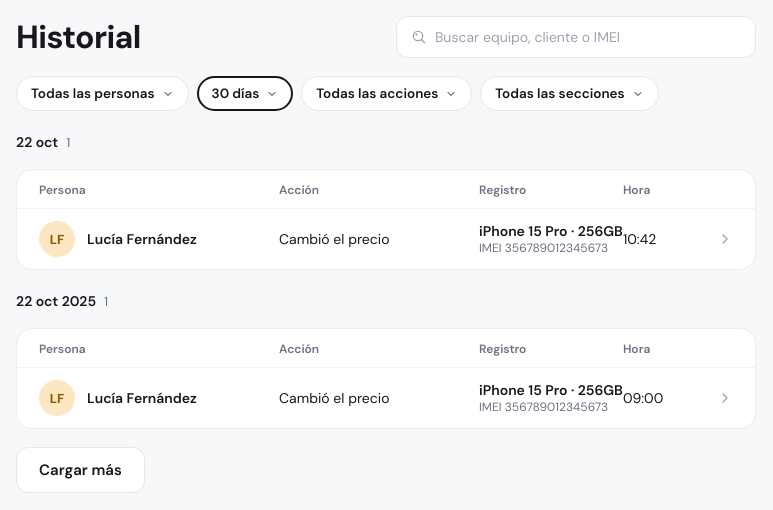
Test: Historial #372 › groups unsorted pages by complete day, counts shown rows and retains Cargar más
Expected: the element named "22 oct 2026" shows "22 oct", [16, 133, 58, 151]
Expected: the element named "22 oct 2025" shows "22 oct 2025", [16, 292, 96, 310]
Click the button "Cargar más". click: (80, 470)
box: [16, 447, 145, 493]
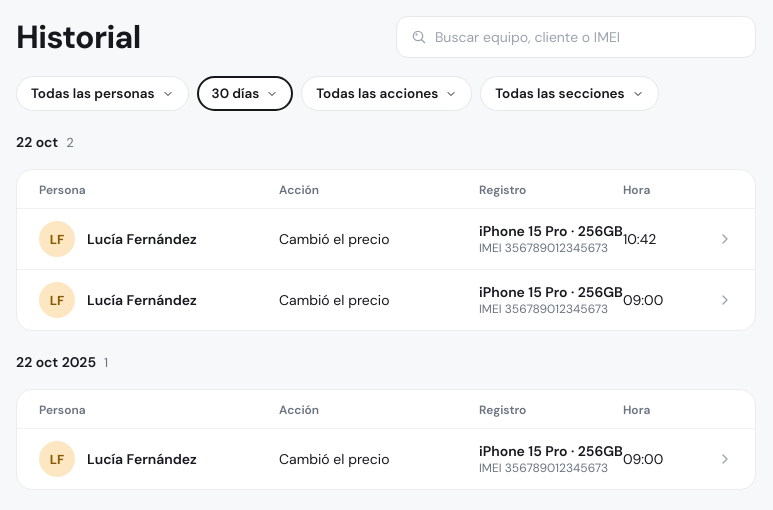
Expected: the button "Cargar más" is gone
Expected: the text named "2 movimientos" is shown, [66, 134, 74, 151]
